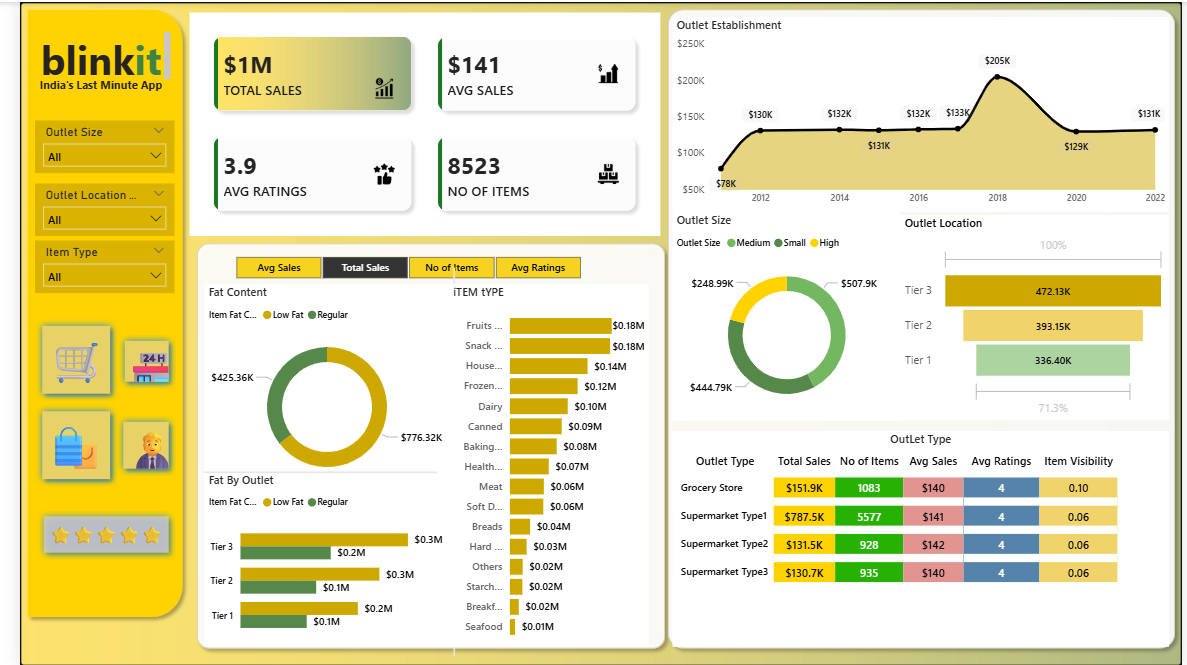

Layout of this report page (visuals, bound fields, positions):
{"tool":"powerbi","page":{"name":"Blinkit","canvas":[1400,800],"ordinal":0},"visuals":[{"type":"shape","box":[0,0,205,750],"z":0},{"type":"textbox","box":[18.1,30.7,168.1,70.5],"z":1000},{"type":"textbox","box":[18.1,84.9,159,30.7],"z":2000},{"type":"cardVisual","fields":{"Data":["BlinkIT Grocery Data.Total Sales","BlinkIT Grocery Data.Average Sales","BlinkIT Grocery Data.Average Ratings","BlinkIT Grocery Data.No of Items"]},"box":[204.2,12.7,567.5,269.3],"z":3000},{"type":"shape","box":[204.2,281.9,581.9,506],"z":4000},{"type":"donutChart","title":"Fat Content","fields":{"Y":["BlinkIT Grocery Data.Total Sales"],"Category":["BlinkIT Grocery Data.Item Fat Content"]},"box":[222.3,339.8,294.6,251.2],"z":5000},{"type":"slicer","fields":{"Values":["Metric.Metric"]},"box":[234.9,300,464.5,39.8],"z":6000},{"type":"clusteredBarChart","title":"Fat By Outlet","fields":{"Y":["BlinkIT Grocery Data.Total Sales"],"Series":["BlinkIT Grocery Data.Item Fat Content"],"Category":["BlinkIT Grocery Data.Outlet Location Type"]},"box":[222.3,565.7,294.6,211.5],"z":7000},{"type":"shape","box":[222.3,556.6,280.1,19.9],"z":8000},{"type":"shape","box":[516.9,319.9,12.7,468.1],"z":9000},{"type":"barChart","title":"iTEM tYPE","fields":{"Y":["BlinkIT Grocery Data.Total Sales"],"Category":["BlinkIT Grocery Data.Item Type"]},"box":[516.9,339.8,240.4,437.4],"z":10000},{"type":"shape","box":[771.7,0,628.9,788],"z":11000},{"type":"lineChart","title":"Outlet Establishment","fields":{"Y":["BlinkIT Grocery Data.Total Sales"],"Category":["BlinkIT Grocery Data.Outlet Establishment Year"]},"box":[786.2,18.1,598.2,234.9],"z":12000},{"type":"donutChart","title":"Outlet Size","fields":{"Y":["BlinkIT Grocery Data.Total Sales"],"Category":["BlinkIT Grocery Data.Outlet Size"]},"box":[786.2,253,274.7,251.2],"z":13000},{"type":"funnel","title":"Outlet Location","fields":{"Y":["Sum(BlinkIT Grocery Data.Sales)"],"Category":["BlinkIT Grocery Data.Outlet Location Type"]},"box":[1060.9,256.6,323.5,247.6],"z":14000},{"type":"pivotTable","title":"OutLet Type","fields":{"Rows":["BlinkIT Grocery Data.Outlet Type"],"Values":["BlinkIT Grocery Data.Total Sales","BlinkIT Grocery Data.No of Items","BlinkIT Grocery Data.Avg Sales","BlinkIT Grocery Data.Avg Ratings","Avg(BlinkIT Grocery Data.Item Visibility)"]},"box":[786.2,516.9,598.2,260.2],"z":15000},{"type":"slicer","fields":{"Values":["BlinkIT Grocery Data.Outlet Size"]},"box":[18.1,142.8,168.1,63.3],"z":16000},{"type":"slicer","fields":{"Values":["BlinkIT Grocery Data.Outlet Location Type"]},"box":[18.1,218.7,168.1,63.3],"z":17000},{"type":"slicer","fields":{"Values":["BlinkIT Grocery Data.Item Type"]},"box":[18.1,287.4,168.1,63.3],"z":18000},{"type":"shape","box":[18.1,381.3,99.4,99.4],"z":19000},{"type":"shape","box":[19.9,610.9,168.1,61.4],"z":20000},{"type":"shape","box":[18.1,484.3,99.4,99.4],"z":21000},{"type":"shape","box":[115.7,497,72.3,74.1],"z":22000},{"type":"shape","box":[117.5,399.4,70.5,66.9],"z":23000}]}

Visuals, with their boxes in screenshot pixels (x1, y1, x2, y2), scaled from the page's 1400x800 canvas onto the 1187x665 screenshot:
shape: <box>0,0,174,623</box>
textbox: <box>15,26,158,84</box>
textbox: <box>15,71,150,96</box>
cardVisual - BlinkIT Grocery Data.Total Sales x BlinkIT Grocery Data.Average Sales: <box>173,11,654,234</box>
shape: <box>173,234,667,655</box>
"Fat Content" donutChart: <box>188,282,438,491</box>
slicer - Metric.Metric: <box>199,249,593,282</box>
"Fat By Outlet" clusteredBarChart: <box>188,470,438,646</box>
shape: <box>188,463,426,479</box>
shape: <box>438,266,449,655</box>
"iTEM tYPE" barChart: <box>438,282,642,646</box>
shape: <box>654,0,1186,655</box>
"Outlet Establishment" lineChart: <box>667,15,1174,210</box>
"Outlet Size" donutChart: <box>667,210,899,419</box>
"Outlet Location" funnel: <box>899,213,1174,419</box>
"OutLet Type" pivotTable: <box>667,430,1174,646</box>
slicer - BlinkIT Grocery Data.Outlet Size: <box>15,119,158,171</box>
slicer - BlinkIT Grocery Data.Outlet Location Type: <box>15,182,158,234</box>
slicer - BlinkIT Grocery Data.Item Type: <box>15,239,158,292</box>
shape: <box>15,317,100,400</box>
shape: <box>17,508,159,559</box>
shape: <box>15,403,100,485</box>
shape: <box>98,413,159,475</box>
shape: <box>100,332,159,388</box>
